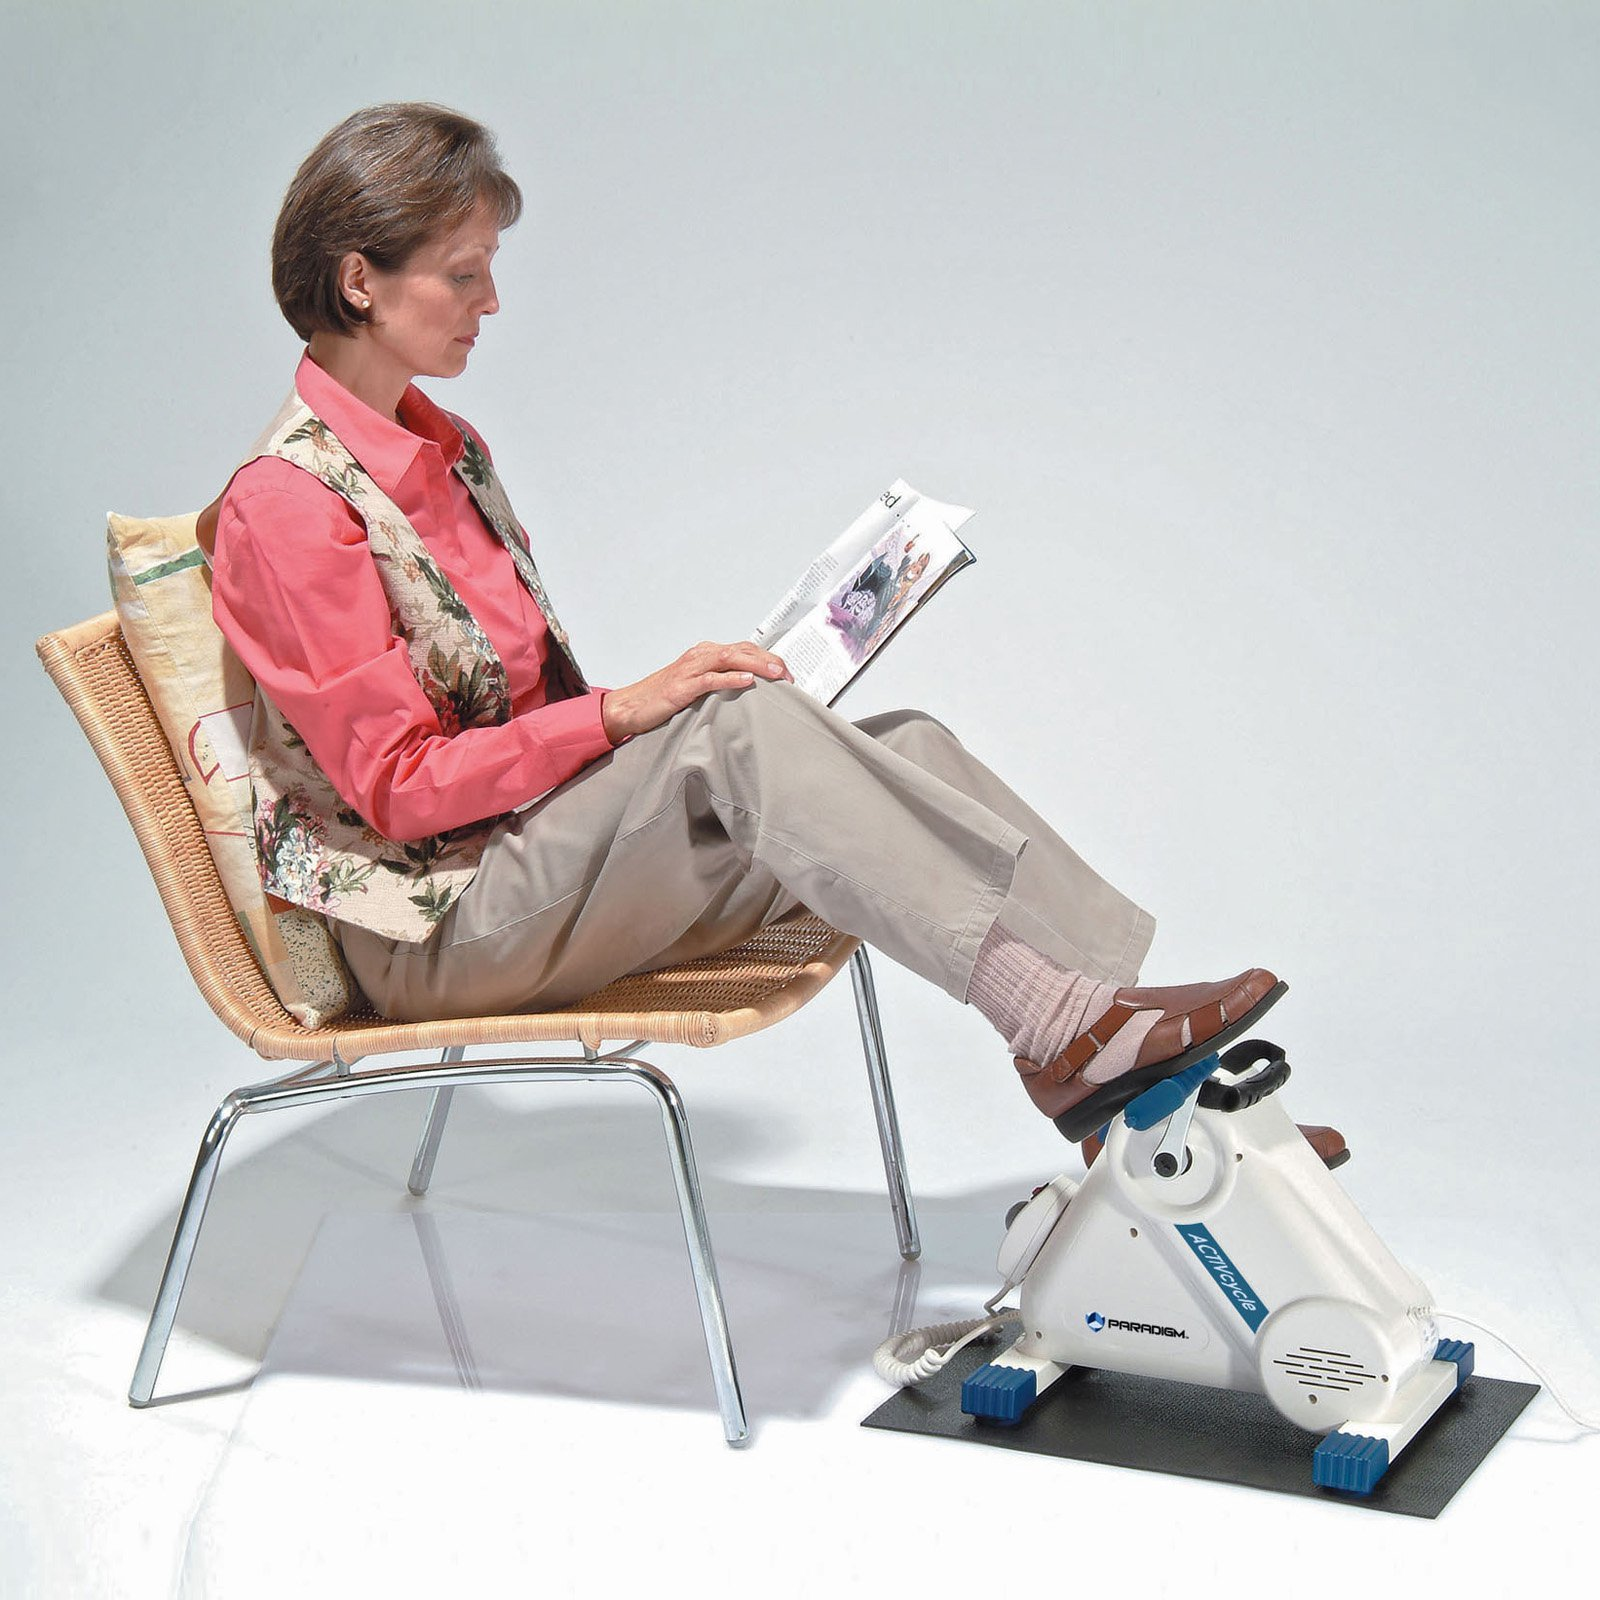gym_bike: (929, 1051, 1492, 1521)
